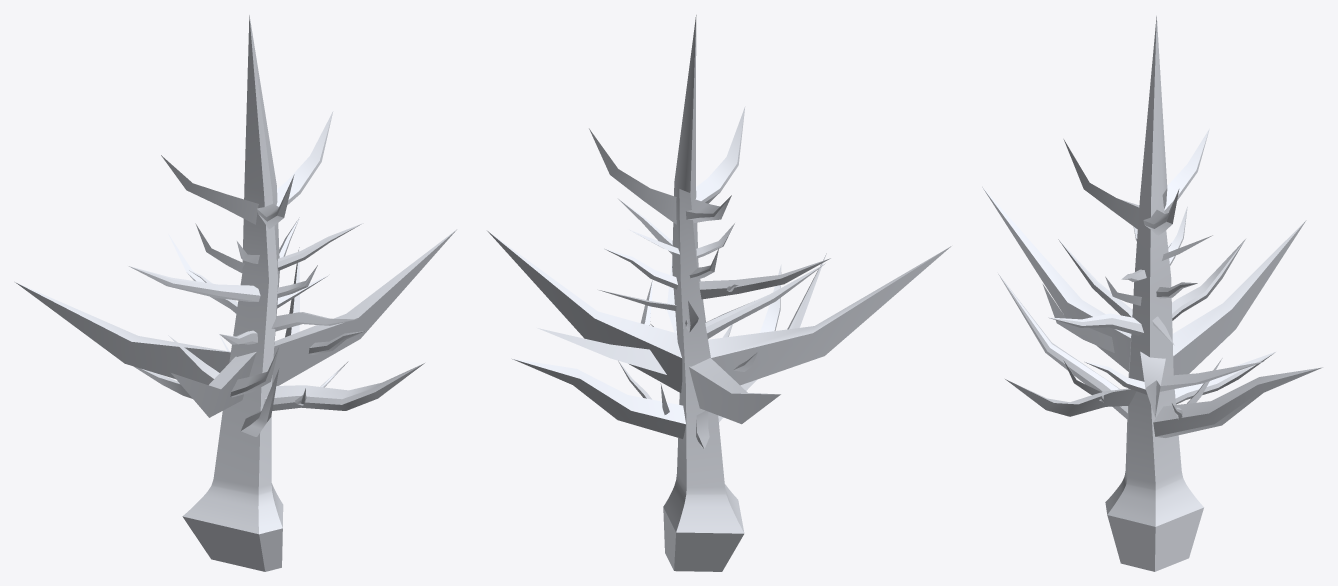
Rendered from tree.fbx.
3 renders of one model, left to right at view 1: azimuth 30°, elevation 25°; view 2: azimuth 150°, elevation 25°; view 3: azimuth 270°, elevation 25°, orthographic.
Visible parts, largest first — view 1: tree.030; view 2: tree.030; view 3: tree.030.
Part boxes in pixels (left/top/right/bottom): tree.030: left=15, top=15, right=456, bottom=571; tree.030: left=487, top=15, right=951, bottom=571; tree.030: left=982, top=15, right=1322, bottom=571.
Size of the model in its own units: 8905 by 12335 by 7055.
Materials: 2 (2 with a texture image).
